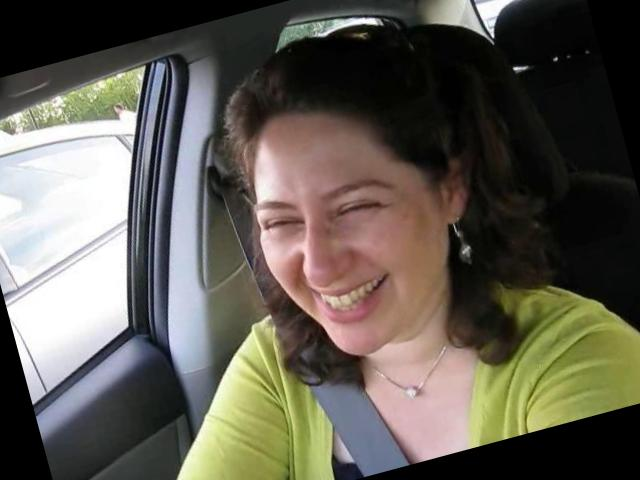eye_closed: (328, 186, 394, 232), (258, 206, 308, 244)
face: (238, 136, 461, 378)
